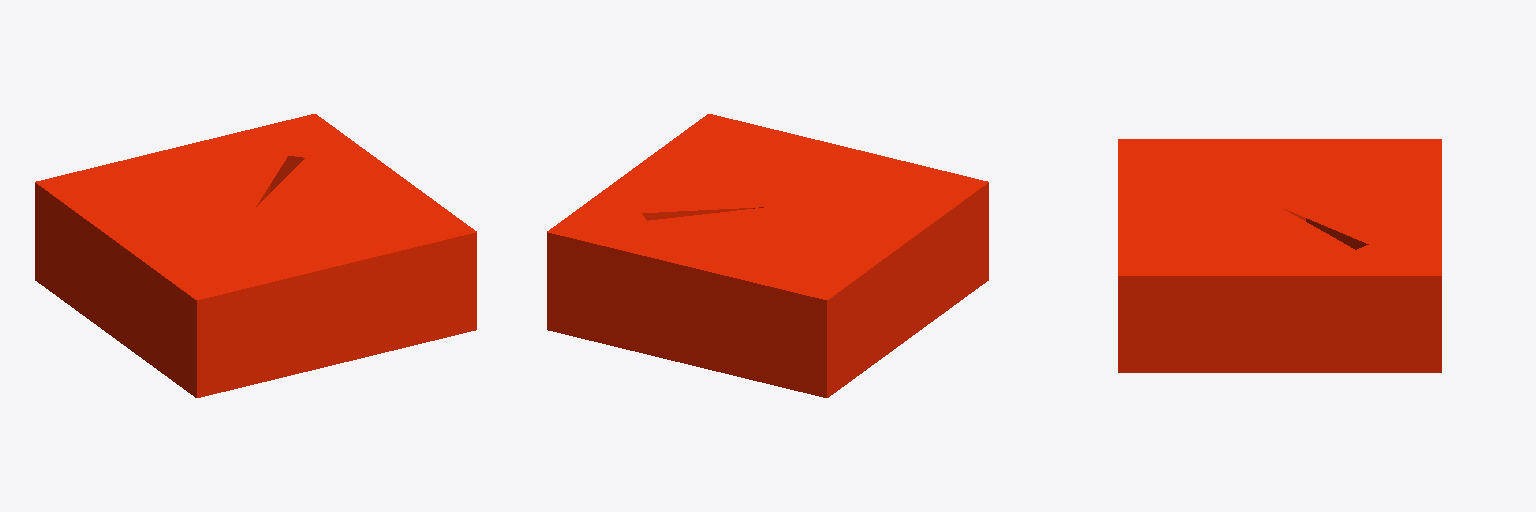
File: Tile_Debug.obj
The picture shows the model from 3 angles: view 1: azimuth 30°, elevation 25°; view 2: azimuth 150°, elevation 25°; view 3: azimuth 270°, elevation 25°; orthographic projection.
Visible parts, largest first — view 1: Cube; view 2: Cube; view 3: Cube.
Boxes of the visible parts, x1,y1,x2,y2 form: Cube: [35, 114, 476, 397]; Cube: [547, 114, 988, 397]; Cube: [1118, 139, 1441, 372].
Size of the model in its own units: 3 by 1 by 3.